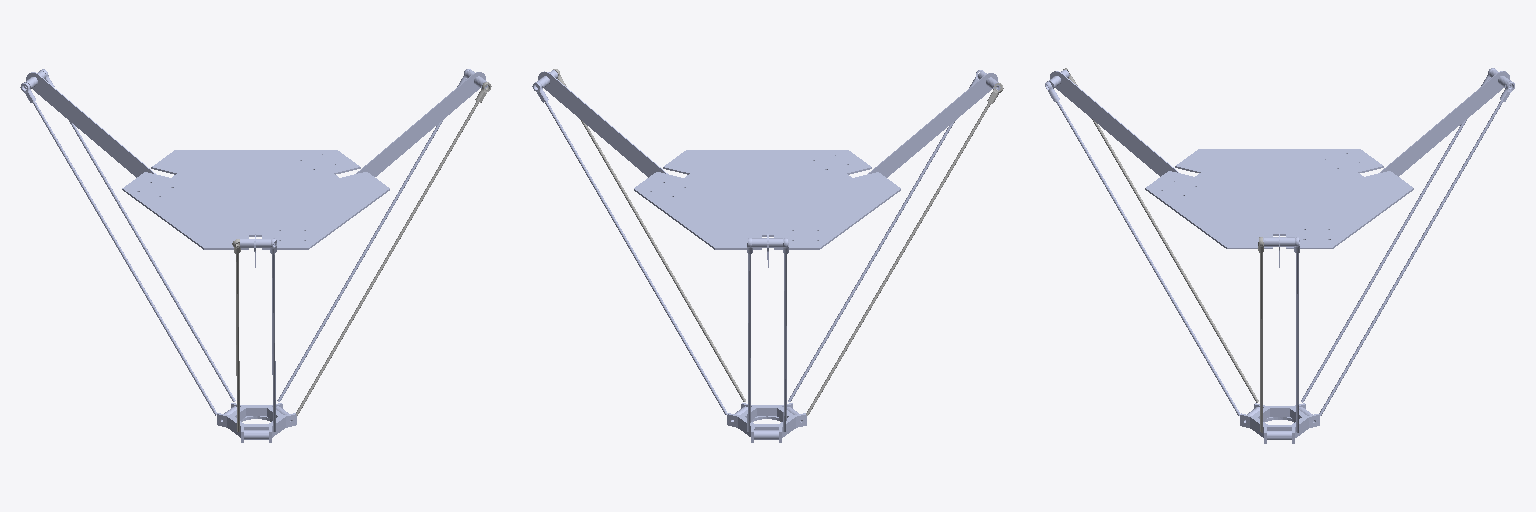
URDF robot description (delta):
<?xml version="1.0" encoding="utf-8"?>
<!-- This URDF was automatically created by SolidWorks to URDF Exporter! Originally created by [author] ([email redacted]) 
     Commit Version: 1.6.0-4-g7f85cfe  Build Version: 1.6.7995.38578
     For more information, please see http://wiki.ros.org/sw_urdf_exporter -->
<robot
  name="delta">
  <link
    name="base_link">
    <inertial>
      <origin
        xyz="-3.93735930499517E-05 -6.53090112989752E-07 0.00150000000000006"
        rpy="0 0 0" />
      <mass
        value="0.348053922322763" />
      <inertia
        ixx="0.00331289541444259"
        ixy="-4.5944954583715E-08"
        ixz="5.32360008035065E-21"
        iyy="0.00330737440416685"
        iyz="-2.73261647182076E-21"
        izz="0.00661974773772595" />
    </inertial>
    <visual>
      <origin
        xyz="0 0 0"
        rpy="0 0 0" />
      <geometry>
        <mesh
          filename="package://delta/meshes/base_link.STL" />
      </geometry>
      <material
        name="">
        <color
          rgba="0.792156862745098 0.819607843137255 0.933333333333333 1" />
      </material>
    </visual>
    <collision>
      <origin
        xyz="0 0 0"
        rpy="0 0 0" />
      <geometry>
        <mesh
          filename="package://delta/meshes/base_link.STL" />
      </geometry>
    </collision>
  </link>
  <link
    name="Biceb1">
    <inertial>
      <origin
        xyz="-0.00175219449537356 0.140948034908345 -1.55431223447522E-14"
        rpy="0 0 0" />
      <mass
        value="0.0192073729616364" />
      <inertia
        ixx="0.000166344843633276"
        ixy="-5.78476030023068E-19"
        ixz="7.36554421223031E-21"
        iyy="1.42950996298081E-06"
        iyz="-3.36272080059957E-19"
        izz="0.000164928138585603" />
    </inertial>
    <visual>
      <origin
        xyz="0 0 0"
        rpy="0 0 0" />
      <geometry>
        <mesh
          filename="package://delta/meshes/Biceb1.STL" />
      </geometry>
      <material
        name="">
        <color
          rgba="0.792156862745098 0.819607843137255 0.933333333333333 1" />
      </material>
    </visual>
    <collision>
      <origin
        xyz="0 0 0"
        rpy="0 0 0" />
      <geometry>
        <mesh
          filename="package://delta/meshes/Biceb1.STL" />
      </geometry>
    </collision>
  </link>
  <joint
    name="biceb_base1"
    type="continuous">
    <origin
      xyz="-0.0832594172832655 0.137739428572839 -0.0340056335963721"
      rpy="2.61864428276593 0 -2.62049388059565" />
    <parent
      link="base_link" />
    <child
      link="Biceb1" />
    <axis
      xyz="1 0 0" />
  </joint>
  <link
    name="con11">
    <inertial>
      <origin
        xyz="-2.22044604925031E-16 -4.58855176077577E-13 -1.26032517755448E-12"
        rpy="0 0 0" />
      <mass
        value="0.00746291618045562" />
      <inertia
        ixx="2.35119174265254E-07"
        ixy="7.86197529672799E-22"
        ixz="9.87288690597737E-22"
        iyy="4.75779563794496E-07"
        iyz="1.98523347012727E-23"
        izz="4.75779563794496E-07" />
    </inertial>
    <visual>
      <origin
        xyz="0 0 0"
        rpy="0 0 0" />
      <geometry>
        <mesh
          filename="package://delta/meshes/con11.STL" />
      </geometry>
      <material
        name="">
        <color
          rgba="0.792156862745098 0.819607843137255 0.933333333333333 1" />
      </material>
    </visual>
    <collision>
      <origin
        xyz="0 0 0"
        rpy="0 0 0" />
      <geometry>
        <mesh
          filename="package://delta/meshes/con11.STL" />
      </geometry>
    </collision>
  </link>
  <joint
    name="biceb_con11"
    type="continuous">
    <origin
      xyz="-0.00175219449537278 0.290000000000432 0"
      rpy="-2.52011841883488 0 0" />
    <parent
      link="Biceb1" />
    <child
      link="con11" />
    <axis
      xyz="1 0 0" />
  </joint>
  <link
    name="forarm1">
    <inertial>
      <origin
        xyz="-0.00105037351656745 0.12751236646494 -0.22343253661117"
        rpy="0 0 0" />
      <mass
        value="0.0144304095608038" />
      <inertia
        ixx="0.000353658949999369"
        ixy="7.15854739250017E-07"
        ixz="-1.25364970198116E-06"
        iyy="0.000266784814617863"
        iyz="0.000152202286062711"
        izz="8.69510919608883E-05" />
    </inertial>
    <visual>
      <origin
        xyz="0 0 0"
        rpy="0 0 0" />
      <geometry>
        <mesh
          filename="package://delta/meshes/forarm1.STL" />
      </geometry>
      <material
        name="">
        <color
          rgba="0.792156862745098 0.819607843137255 0.933333333333333 1" />
      </material>
    </visual>
    <collision>
      <origin
        xyz="0 0 0"
        rpy="0 0 0" />
      <geometry>
        <mesh
          filename="package://delta/meshes/forarm1.STL" />
      </geometry>
    </collision>
  </link>
  <joint
    name="forarm1_con11"
    type="continuous">
    <origin
      xyz="-0.0290000000000009 0 0"
      rpy="0 0 0" />
    <parent
      link="con11" />
    <child
      link="forarm1" />
    <axis
      xyz="0 -1 0" />
  </joint>
  <link
    name="con21">
    <inertial>
      <origin
        xyz="-1.75326420048805E-12 -0.0100000000102225 0.00993633272145739"
        rpy="0 0 0" />
      <mass
        value="0.0809173532040043" />
      <inertia
        ixx="5.75744317100171E-05"
        ixy="7.04096137405137E-20"
        ixz="8.70425313479776E-21"
        iyy="5.7574431710017E-05"
        iyz="1.39854079431504E-20"
        izz="0.000110342088917036" />
    </inertial>
    <visual>
      <origin
        xyz="0 0 0"
        rpy="0 0 0" />
      <geometry>
        <mesh
          filename="package://delta/meshes/con21.STL" />
      </geometry>
      <material
        name="">
        <color
          rgba="0.792156862745098 0.819607843137255 0.933333333333333 1" />
      </material>
    </visual>
    <collision>
      <origin
        xyz="0 0 0"
        rpy="0 0 0" />
      <geometry>
        <mesh
          filename="package://delta/meshes/con21.STL" />
      </geometry>
    </collision>
  </link>
  <joint
    name="lowerforarm_con21"
    type="fixed">
    <origin
      xyz="0.0164440772855872 0.359054564084232 -0.558556636293173"
      rpy="0 0.0985258639310481 1.57079632679488" />
    <parent
      link="forarm1" />
    <child
      link="con21" />
    <axis
      xyz="0 0 0" />
  </joint>
  <link
    name="forarm2">
    <inertial>
      <origin
        xyz="-0.00105037385122753 0.127512281223115 -0.223432387592727"
        rpy="0 0 0" />
      <mass
        value="0.0144304199499565" />
      <inertia
        ixx="0.000353658956230085"
        ixy="7.15436472505439E-07"
        ixz="-1.25388843231636E-06"
        iyy="0.00026678480927425"
        iyz="0.000152202284855621"
        izz="8.69510923658863E-05" />
    </inertial>
    <visual>
      <origin
        xyz="0 0 0"
        rpy="0 0 0" />
      <geometry>
        <mesh
          filename="package://delta/meshes/forarm2.STL" />
      </geometry>
      <material
        name="">
        <color
          rgba="0.792156862745098 0.819607843137255 0.933333333333333 1" />
      </material>
    </visual>
    <collision>
      <origin
        xyz="0 0 0"
        rpy="0 0 0" />
      <geometry>
        <mesh
          filename="package://delta/meshes/forarm2.STL" />
      </geometry>
    </collision>
  </link>
  <joint
    name="forarm2_con11"
    type="continuous">
    <origin
      xyz="0.0290000000000059 0 0"
      rpy="0 0 0" />
    <parent
      link="con11" />
    <child
      link="forarm2" />
    <axis
      xyz="0 -1 0" />
  </joint>
  <link
    name="Biceb2">
    <inertial>
      <origin
        xyz="-0.000793548812675793 0.150948034908535 -4.44089209850063E-16"
        rpy="0 0 0" />
      <mass
        value="0.0192073729616366" />
      <inertia
        ixx="0.000166344843633275"
        ixy="-5.94365559867612E-19"
        ixz="1.43922884424633E-20"
        iyy="1.42950996298083E-06"
        iyz="1.82217962778081E-19"
        izz="0.000164928138585602" />
    </inertial>
    <visual>
      <origin
        xyz="0 0 0"
        rpy="0 0 0" />
      <geometry>
        <mesh
          filename="package://delta/meshes/Biceb2.STL" />
      </geometry>
      <material
        name="">
        <color
          rgba="0.792156862745098 0.819607843137255 0.933333333333333 1" />
      </material>
    </visual>
    <collision>
      <origin
        xyz="0 0 0"
        rpy="0 0 0" />
      <geometry>
        <mesh
          filename="package://delta/meshes/Biceb2.STL" />
      </geometry>
    </collision>
  </link>
  <joint
    name="biceb_base2"
    type="continuous">
    <origin
      xyz="-0.0764517616066354 -0.131657111631686 -0.0389999999999996"
      rpy="2.6205547388268 0 -0.52609877820246" />
    <parent
      link="base_link" />
    <child
      link="Biceb2" />
    <axis
      xyz="1 0 0" />
  </joint>
  <link
    name="con12">
    <inertial>
      <origin
        xyz="-1.28563826251593E-13 8.84489148589296E-11 1.53866919205825E-10"
        rpy="0 0 0" />
      <mass
        value="0.00746291618045565" />
      <inertia
        ixx="2.35119684360029E-07"
        ixy="-3.5037029932656E-10"
        ixz="2.01341770111172E-23"
        iyy="4.75779053699729E-07"
        iyz="2.06464519551821E-24"
        izz="4.75779563794502E-07" />
    </inertial>
    <visual>
      <origin
        xyz="0 0 0"
        rpy="0 0 0" />
      <geometry>
        <mesh
          filename="package://delta/meshes/con12.STL" />
      </geometry>
      <material
        name="">
        <color
          rgba="0.792156862745098 0.819607843137255 0.933333333333333 1" />
      </material>
    </visual>
    <collision>
      <origin
        xyz="0 0 0"
        rpy="0 0 0" />
      <geometry>
        <mesh
          filename="package://delta/meshes/con12.STL" />
      </geometry>
    </collision>
  </link>
  <joint
    name="biceb_con12"
    type="continuous">
    <origin
      xyz="-0.000793548812675571 0.30000000000012 0"
      rpy="-2.62055519636295 -0.000724704782518244 0.0012626826229493" />
    <parent
      link="Biceb2" />
    <child
      link="con12" />
    <axis
      xyz="0.999998940218113 0.00145587178400935 0" />
  </joint>
  <link
    name="forarm3">
    <inertial>
      <origin
        xyz="0.000285220430548572 0.149163028038896 -0.209601804943243"
        rpy="0 0 0" />
      <mass
        value="0.0144304093668612" />
      <inertia
        ixx="0.000353650598470555"
        ixy="-2.33871923199319E-07"
        ixz="3.14651310226804E-07"
        iyy="0.000234793001946604"
        iyz="0.000167030407797497"
        izz="0.000118951256167155" />
    </inertial>
    <visual>
      <origin
        xyz="0 0 0"
        rpy="0 0 0" />
      <geometry>
        <mesh
          filename="package://delta/meshes/forarm3.STL" />
      </geometry>
      <material
        name="">
        <color
          rgba="0.752941176470588 0.752941176470588 0.752941176470588 1" />
      </material>
    </visual>
    <collision>
      <origin
        xyz="0 0 0"
        rpy="0 0 0" />
      <geometry>
        <mesh
          filename="package://delta/meshes/forarm3.STL" />
      </geometry>
    </collision>
  </link>
  <joint
    name="forarm3_con12"
    type="continuous">
    <origin
      xyz="-0.0289999692664815 -4.22202818657347E-05 0"
      rpy="0 0 0" />
    <parent
      link="con12" />
    <child
      link="forarm3" />
    <axis
      xyz="0 1 0" />
  </joint>
  <link
    name="forarm4">
    <inertial>
      <origin
        xyz="0.000285212092565823 0.149163030494388 -0.209601798243019"
        rpy="0 0 0" />
      <mass
        value="0.0144304096228618" />
      <inertia
        ixx="0.000353658433414418"
        ixy="-2.3434286089199E-07"
        ixz="3.14325935369369E-07"
        iyy="0.00023478780280554"
        iyz="0.000167026705837287"
        izz="0.000118948620340714" />
    </inertial>
    <visual>
      <origin
        xyz="0 0 0"
        rpy="0 0 0" />
      <geometry>
        <mesh
          filename="package://delta/meshes/forarm4.STL" />
      </geometry>
      <material
        name="">
        <color
          rgba="0.792156862745098 0.819607843137255 0.933333333333333 1" />
      </material>
    </visual>
    <collision>
      <origin
        xyz="0 0 0"
        rpy="0 0 0" />
      <geometry>
        <mesh
          filename="package://delta/meshes/forarm4.STL" />
      </geometry>
    </collision>
  </link>
  <joint
    name="forarm4_con12"
    type="continuous">
    <origin
      xyz="0.0289999692661698 4.22202816073858E-05 0"
      rpy="0 0 0" />
    <parent
      link="con12" />
    <child
      link="forarm4" />
    <axis
      xyz="0 1 0" />
  </joint>
  <link
    name="Biceb3">
    <inertial>
      <origin
        xyz="-0.00049566363650777 0.140948034908515 6.29918339711821E-12"
        rpy="0 0 0" />
      <mass
        value="0.0192073729616364" />
      <inertia
        ixx="0.000166344843633273"
        ixy="6.62076203416362E-19"
        ixz="-5.661894768993E-21"
        iyy="1.42950996298078E-06"
        iyz="3.65653535417841E-19"
        izz="0.0001649281385856" />
    </inertial>
    <visual>
      <origin
        xyz="0 0 0"
        rpy="0 0 0" />
      <geometry>
        <mesh
          filename="package://delta/meshes/Biceb3.STL" />
      </geometry>
      <material
        name="">
        <color
          rgba="0.792156862745098 0.819607843137255 0.933333333333333 1" />
      </material>
    </visual>
    <collision>
      <origin
        xyz="0 0 0"
        rpy="0 0 0" />
      <geometry>
        <mesh
          filename="package://delta/meshes/Biceb3.STL" />
      </geometry>
    </collision>
  </link>
  <joint
    name="biceb_base3"
    type="continuous">
    <origin
      xyz="0.160831805716202 0.000595252407950997 -0.033973265636227"
      rpy="2.61490408337707 0 1.56829632419074" />
    <parent
      link="base_link" />
    <child
      link="Biceb3" />
    <axis
      xyz="1 0 0" />
  </joint>
  <link
    name="con13">
    <inertial>
      <origin
        xyz="-8.5043083686287E-14 -9.46864808781811E-11 -1.62825086746921E-10"
        rpy="0 0 0" />
      <mass
        value="0.00746291618045563" />
      <inertia
        ixx="2.35119365324097E-07"
        ixy="2.14430079153028E-10"
        ixz="4.75372243406834E-23"
        iyy="4.75779372735656E-07"
        iyz="9.4426491856887E-24"
        izz="4.75779563794498E-07" />
    </inertial>
    <visual>
      <origin
        xyz="0 0 0"
        rpy="0 0 0" />
      <geometry>
        <mesh
          filename="package://delta/meshes/con13.STL" />
      </geometry>
      <material
        name="">
        <color
          rgba="0.792156862745098 0.819607843137255 0.933333333333333 1" />
      </material>
    </visual>
    <collision>
      <origin
        xyz="0 0 0"
        rpy="0 0 0" />
      <geometry>
        <mesh
          filename="package://delta/meshes/con13.STL" />
      </geometry>
    </collision>
  </link>
  <joint
    name="biceb_con13"
    type="continuous">
    <origin
      xyz="-0.000495663636507992 0.289999999999974 0"
      rpy="-2.61490425587017 0.000447885728932077 -0.00077025491561851" />
    <parent
      link="Biceb3" />
    <child
      link="con13" />
    <axis
      xyz="0.999999603052915 -0.000891007301572988 0" />
  </joint>
  <link
    name="forarm5">
    <inertial>
      <origin
        xyz="2.54045823504523E-05 0.14831197052904 -0.21020505749921"
        rpy="0 0 0" />
      <mass
        value="0.0144304093208629" />
      <inertia
        ixx="0.000353664776789159"
        ixy="-1.91943230751328E-08"
        ixz="2.91864673212062E-08"
        iyy="0.000236136299280177"
        iyz="0.000166548936792648"
        izz="0.000117593780480283" />
    </inertial>
    <visual>
      <origin
        xyz="0 0 0"
        rpy="0 0 0" />
      <geometry>
        <mesh
          filename="package://delta/meshes/forarm5.STL" />
      </geometry>
      <material
        name="">
        <color
          rgba="0.752941176470588 0.752941176470588 0.752941176470588 1" />
      </material>
    </visual>
    <collision>
      <origin
        xyz="0 0 0"
        rpy="0 0 0" />
      <geometry>
        <mesh
          filename="package://delta/meshes/forarm5.STL" />
      </geometry>
    </collision>
  </link>
  <joint
    name="forarm5_con13"
    type="continuous">
    <origin
      xyz="-0.0289999884886679 2.5839211660994E-05 0"
      rpy="0 0 0" />
    <parent
      link="con13" />
    <child
      link="forarm5" />
    <axis
      xyz="0 1 0" />
  </joint>
  <link
    name="forarm6">
    <inertial>
      <origin
        xyz="2.54023930122971E-05 0.148311967474546 -0.210205054603508"
        rpy="0 0 0" />
      <mass
        value="0.0144304095682966" />
      <inertia
        ixx="0.000353664825395716"
        ixy="-2.06501371555305E-08"
        ixz="2.81594225114868E-08"
        iyy="0.000236136267343819"
        iyz="0.000166548913747927"
        izz="0.000117593763848959" />
    </inertial>
    <visual>
      <origin
        xyz="0 0 0"
        rpy="0 0 0" />
      <geometry>
        <mesh
          filename="package://delta/meshes/forarm6.STL" />
      </geometry>
      <material
        name="">
        <color
          rgba="0.792156862745098 0.819607843137255 0.933333333333333 1" />
      </material>
    </visual>
    <collision>
      <origin
        xyz="0 0 0"
        rpy="0 0 0" />
      <geometry>
        <mesh
          filename="package://delta/meshes/forarm6.STL" />
      </geometry>
    </collision>
  </link>
  <joint
    name="forarm6_con13"
    type="continuous">
    <origin
      xyz="0.0289999884886464 -2.5839211899692E-05 0"
      rpy="0 0 0" />
    <parent
      link="con13" />
    <child
      link="forarm6" />
    <axis
      xyz="0 1 0" />
  </joint>
</robot>

--- Render facts (derived) ---
The picture shows the robot from 3 angles, left to right: view 1: azimuth 30°, elevation 25°; view 2: azimuth 150°, elevation 25°; view 3: azimuth 270°, elevation 25°; orthographic projection.
Robot: delta — 14 links, 13 joints (12 continuous, 1 fixed); root link base_link; default pose: all joints at 0.
Links seen in each view (by area): view 1: base_link, Biceb3, Biceb1, con21, forarm2, forarm5, forarm6, forarm1, forarm3, forarm4; view 2: base_link, Biceb2, Biceb3, con21, forarm6, forarm3, forarm5, forarm4, forarm2, forarm1; view 3: base_link, Biceb1, Biceb2, con21, forarm1, forarm4, forarm2, forarm3, forarm5, forarm6.
Link boxes in pixels (x1,y1,x2,y2): base_link: (122,150,389,249); Biceb3: (356,72,485,176); Biceb1: (26,72,156,177); con21: (217,403,296,442); forarm2: (20,82,217,415); forarm5: (296,82,491,415); forarm6: (277,69,470,401); forarm1: (40,69,235,401); forarm3: (232,239,240,431); forarm4: (270,238,276,431); base_link: (634,150,900,249); Biceb2: (868,73,997,177); Biceb3: (538,71,667,177); con21: (727,403,806,442); forarm6: (532,82,727,414); forarm3: (806,83,1003,415); forarm5: (553,69,745,401); forarm4: (788,70,983,401); forarm2: (783,238,788,431); forarm1: (747,238,752,431); base_link: (1145,149,1413,248); Biceb1: (1380,71,1509,176); Biceb2: (1050,71,1178,176); con21: (1240,403,1319,443); forarm1: (1319,81,1514,415); forarm4: (1045,81,1240,415); forarm2: (1301,68,1495,402); forarm3: (1063,68,1258,402); forarm5: (1258,237,1263,432); forarm6: (1294,237,1299,432).
Bounding box of the posed robot: 0.6672 × 0.7565 × 0.5365 m (x, y, z).
Meshes: 14 distinct files referenced, 14 mesh visuals loaded (14 binary STL).